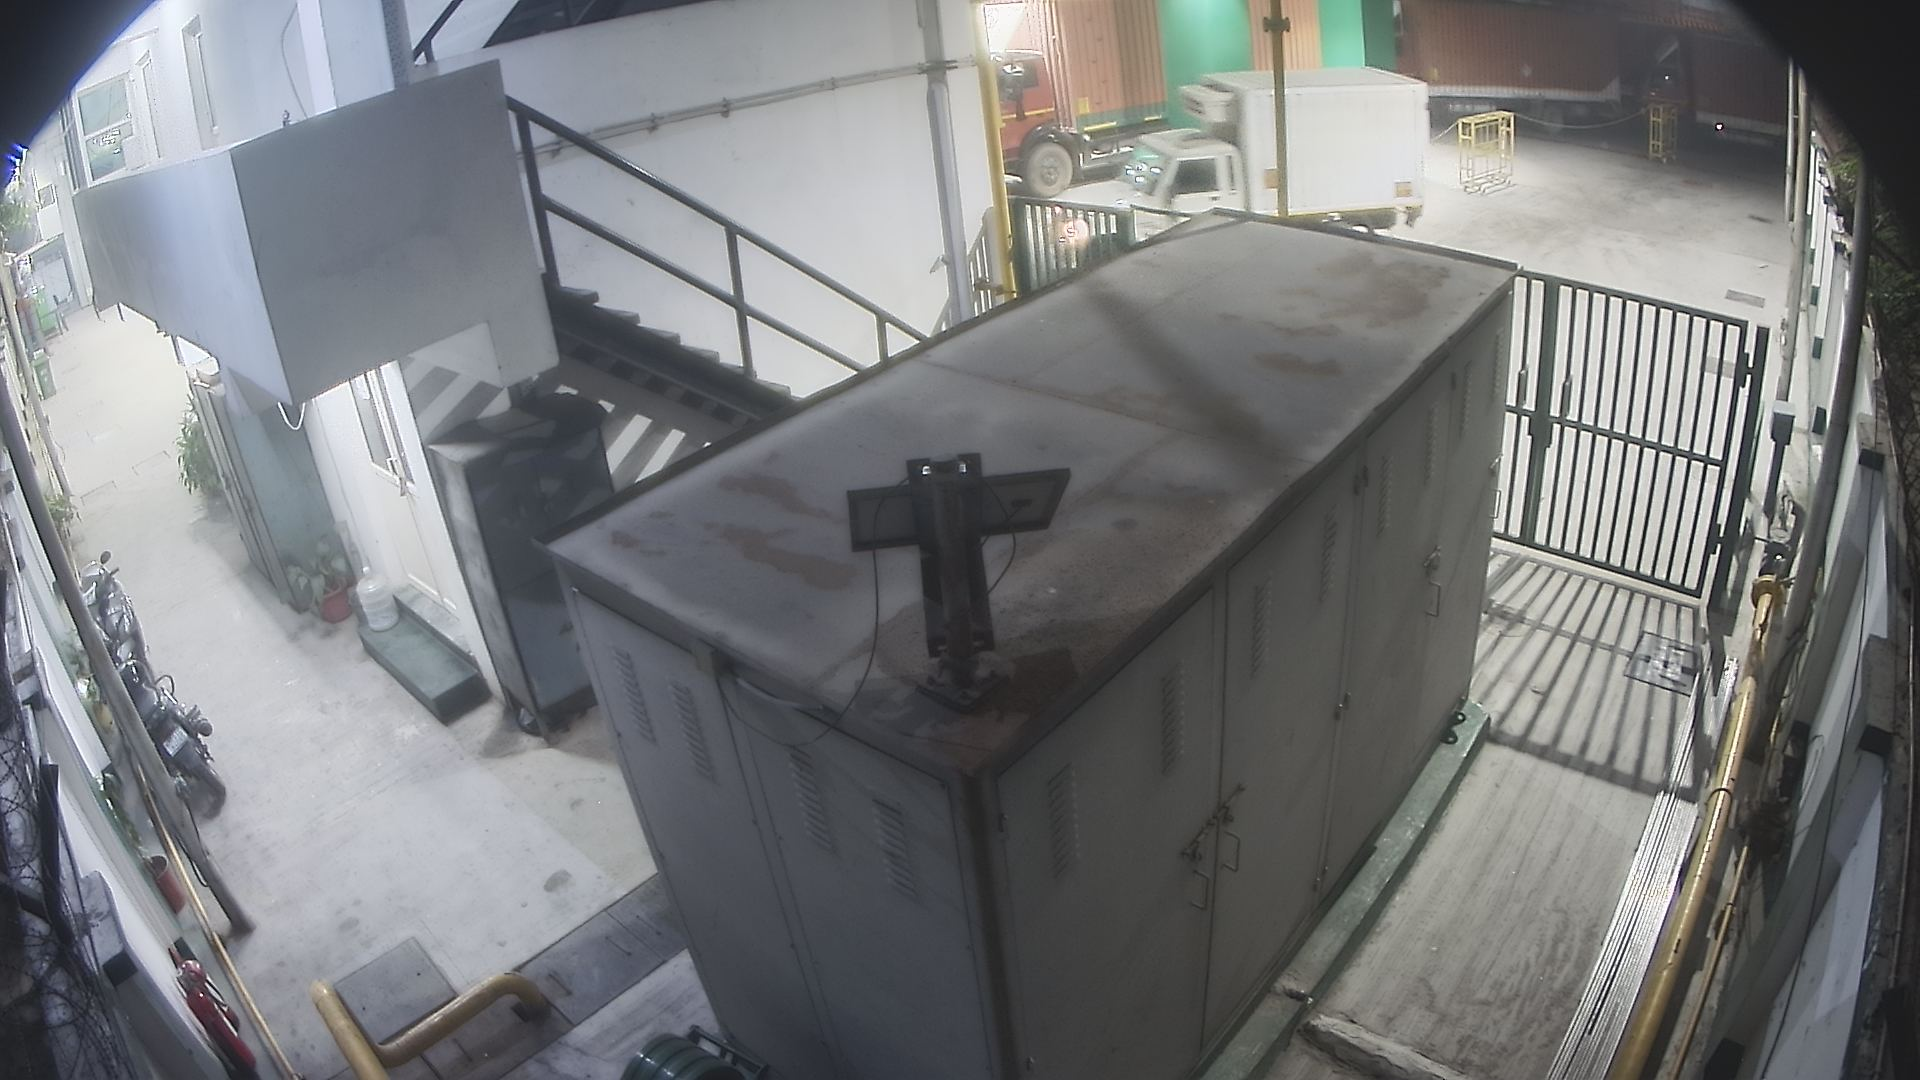Bike: (70, 596, 237, 818), (38, 539, 167, 727)
Car: (960, 164, 1076, 313), (154, 311, 266, 419)
HMV: (1026, 50, 1465, 285), (960, 0, 1420, 210), (1362, 1, 1660, 154), (1607, 0, 1832, 186)
